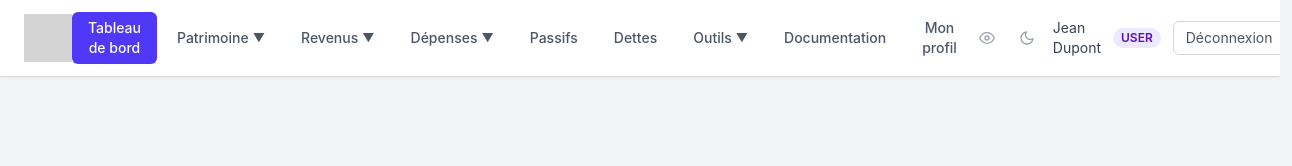
Test: Navigation › ouvre le dropdown Revenus au clic
Click the button "Revenus ▼": (338, 38) [285,22,390,54]
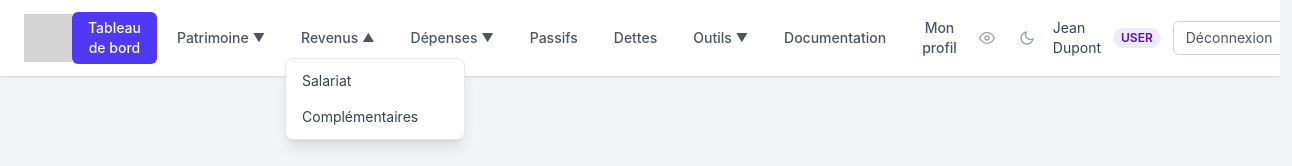
Now the button "Salariat" is shown, box [286,63,464,99]
Now the button "Complémentaires" is shown, box [286,99,464,135]
